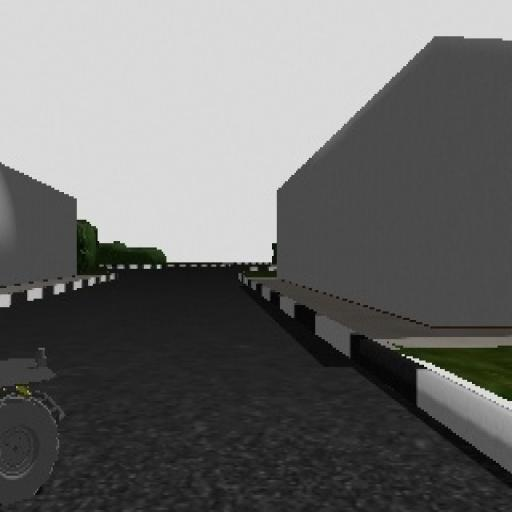huskya200: (0, 312, 72, 506)
